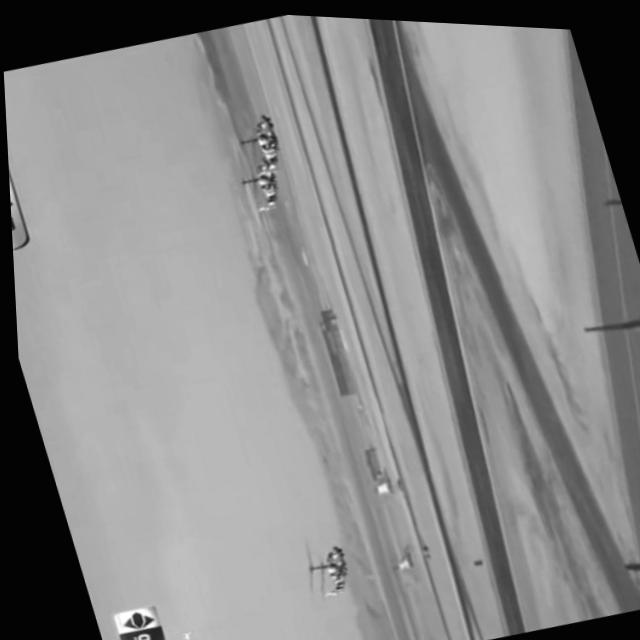helikopter: (187, 95, 322, 234), (274, 520, 367, 613)
